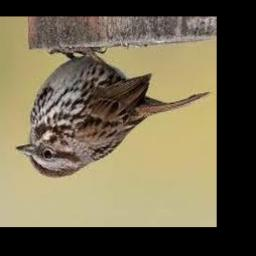Sparrow: (16, 46, 210, 178)
